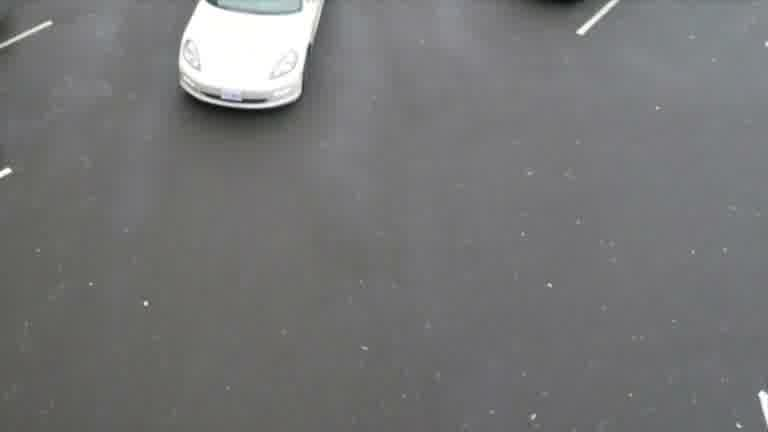car: (158, 2, 352, 143)
